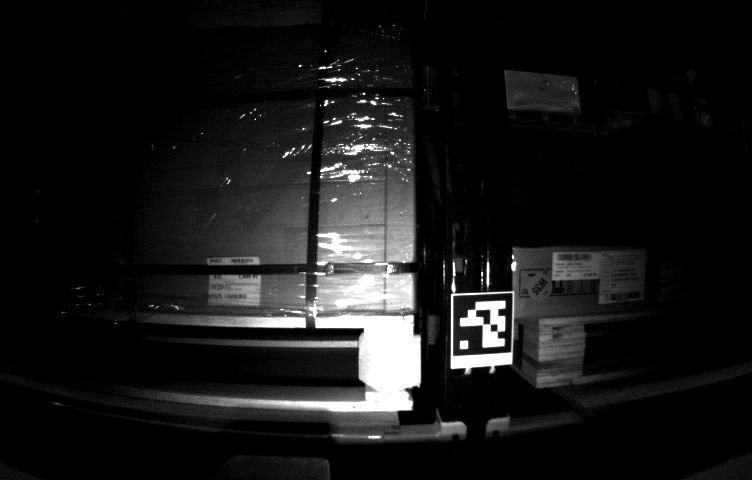True Barcode: (205, 258, 260, 304)
